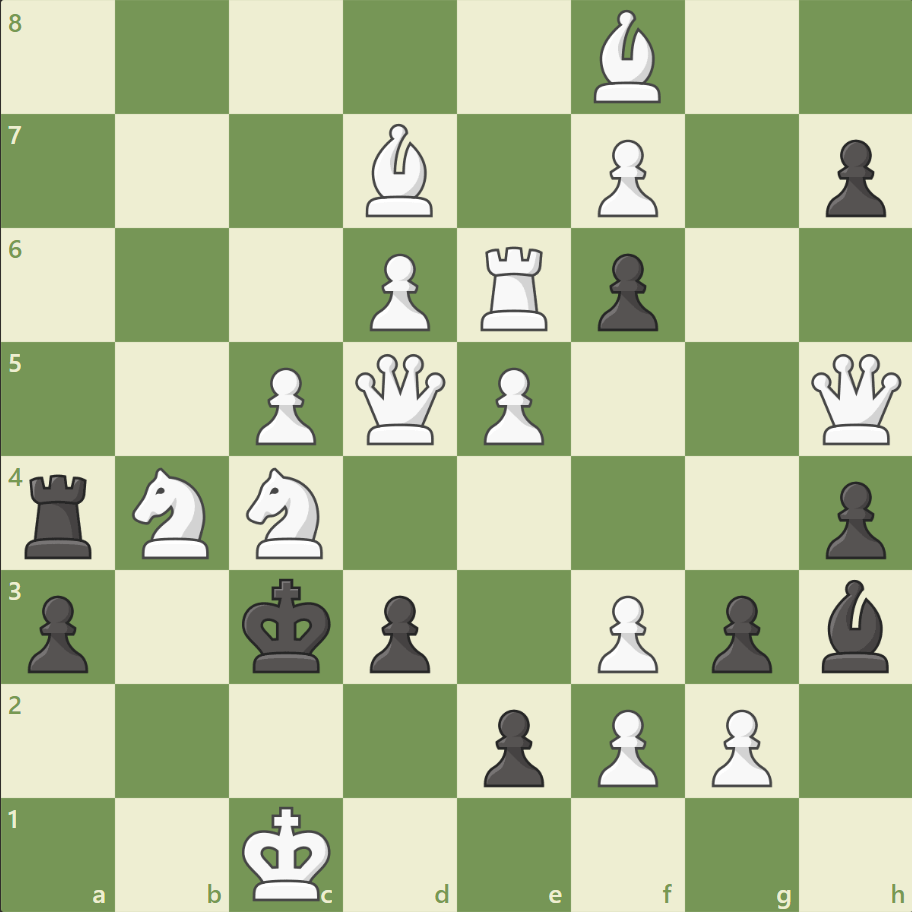B: (585, 6, 669, 109), (358, 120, 442, 222)
K: (238, 798, 338, 906)
N: (124, 461, 222, 564), (238, 461, 335, 564)
P: (247, 359, 322, 450), (474, 359, 549, 450), (701, 700, 776, 791), (588, 132, 662, 223), (361, 246, 435, 337), (588, 586, 662, 677), (588, 700, 662, 791)
Q: (351, 349, 450, 449), (805, 349, 904, 449)
R: (473, 239, 556, 336)
b: (812, 574, 896, 676)
k: (238, 571, 338, 679)
p: (20, 586, 95, 677), (701, 586, 776, 677), (474, 700, 549, 791), (815, 132, 889, 223), (588, 246, 662, 337), (815, 473, 889, 564), (361, 586, 435, 677)
r: (19, 466, 102, 563)
